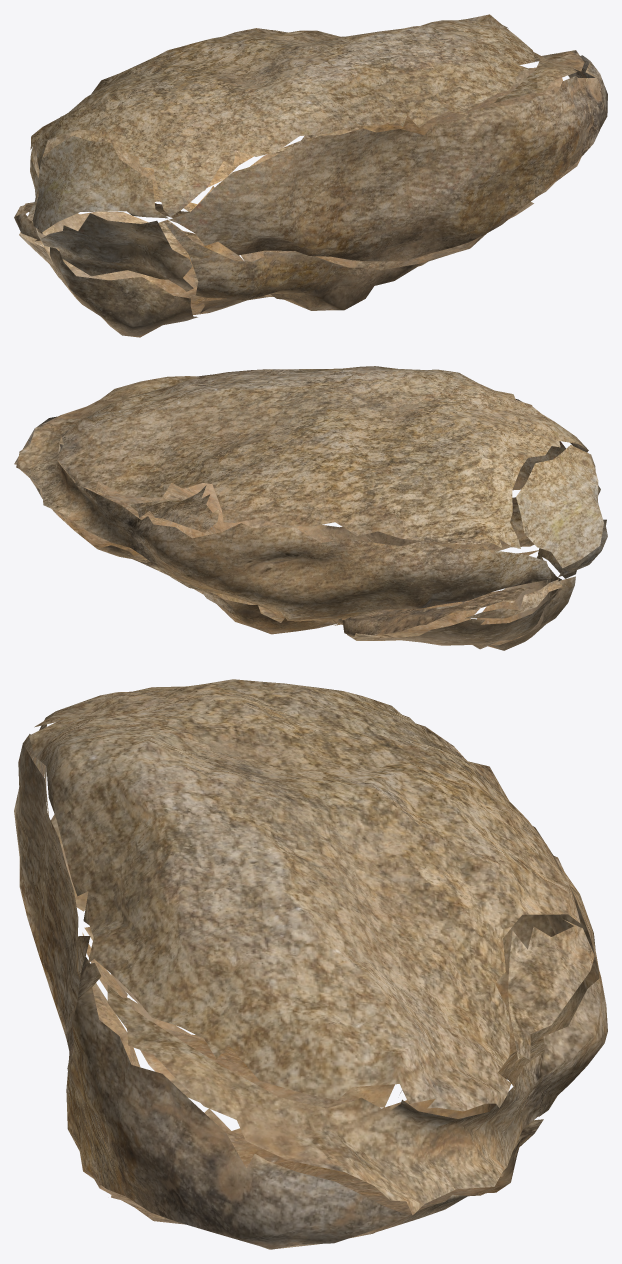
Rendered from rock_boulder_c.glb.
The picture shows the model from 3 angles, top to bottom: view 1: azimuth 30°, elevation 25°; view 2: azimuth 150°, elevation 25°; view 3: azimuth 270°, elevation 25°; orthographic projection. The views are drawn at different scales.
Parts seen in each view (by area): view 1: rock_boulder_c; view 2: rock_boulder_c; view 3: rock_boulder_c.
Boxes of the visible parts, left/top/right/bottom form: rock_boulder_c: left=14, top=14, right=607, bottom=337; rock_boulder_c: left=14, top=366, right=607, bottom=650; rock_boulder_c: left=14, top=679, right=607, bottom=1249.
Bounding box in the file's own units: 1.36 × 0.53 × 0.7419.
Materials: 1 (1 with a texture image).
